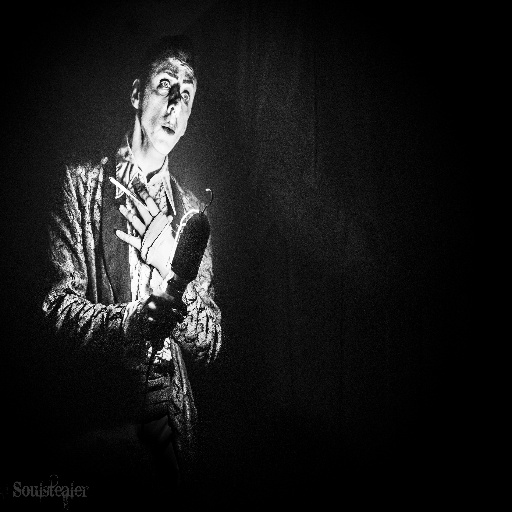hand: (117, 173, 177, 275), (135, 287, 187, 353)
